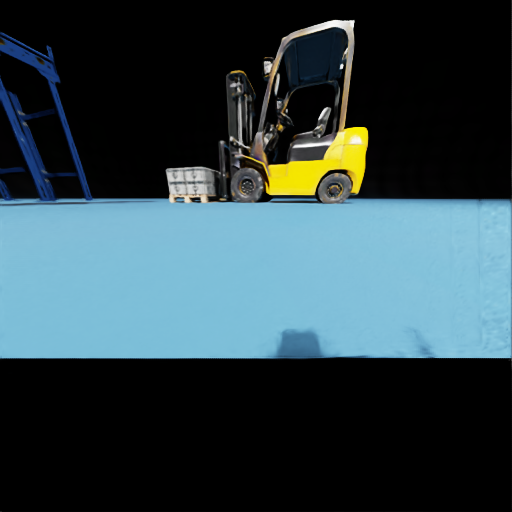transportation_area: (186, 181, 220, 194)
